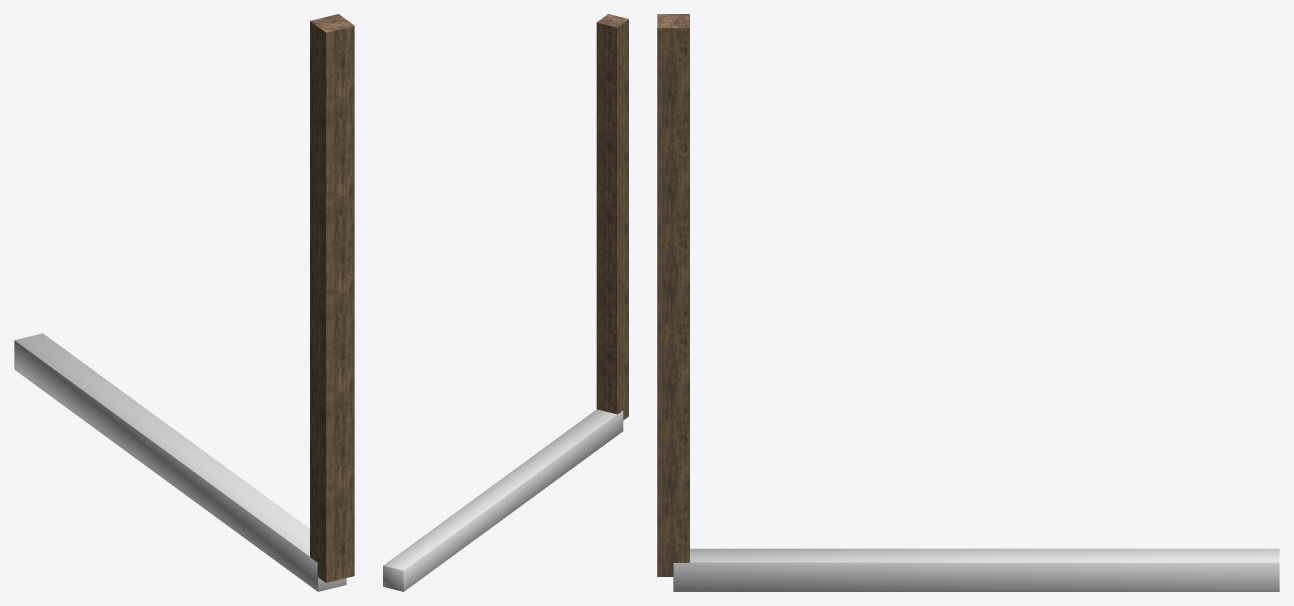
File: SM_Beam_B_v2.fbx
3 renders of one model, left to right at view 1: azimuth 30°, elevation 25°; view 2: azimuth 150°, elevation 25°; view 3: azimuth 270°, elevation 25°, orthographic. The views are drawn at different scales.
Parts seen in each view (by area): view 1: SM_Beam_B_v2, SM_Beam_B_v2_ConvexHulls; view 2: SM_Beam_B_v2, SM_Beam_B_v2_ConvexHulls; view 3: SM_Beam_B_v2_ConvexHulls, SM_Beam_B_v2.
Boxes of the visible parts, box(x1,y1,x2,y2) form: SM_Beam_B_v2: box(310, 14, 354, 582); SM_Beam_B_v2_ConvexHulls: box(14, 333, 346, 591); SM_Beam_B_v2: box(596, 14, 628, 420); SM_Beam_B_v2_ConvexHulls: box(383, 409, 623, 591); SM_Beam_B_v2_ConvexHulls: box(673, 548, 1279, 591); SM_Beam_B_v2: box(657, 14, 689, 576).
Bounding box in the file's own units: 0.6265 × 11.61 × 11.61.
